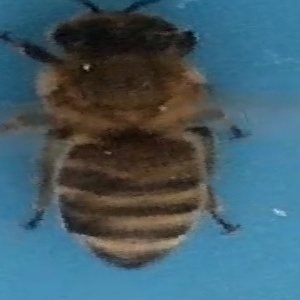bee: (2, 4, 273, 276)
